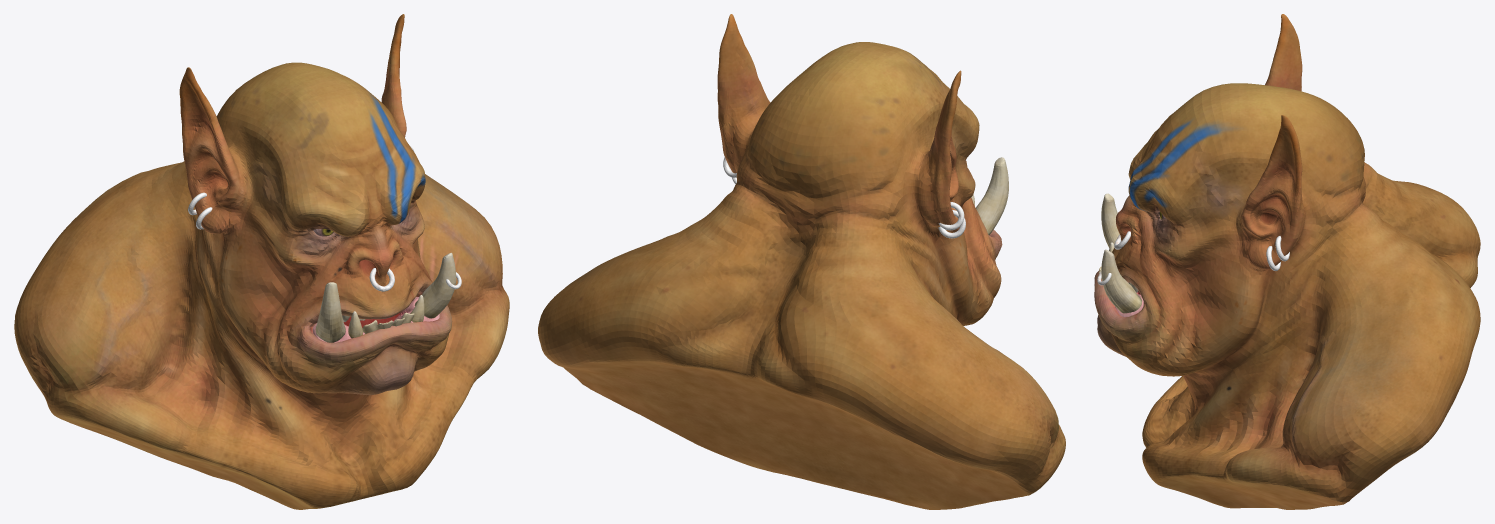
File: orc.OBJ
The picture shows the model from 3 angles, left to right: view 1: azimuth 30°, elevation 25°; view 2: azimuth 150°, elevation 25°; view 3: azimuth 270°, elevation 25°; orthographic projection. The views are drawn at different scales.
Parts seen in each view (by area): view 1: Group3, Group18, Group17; view 2: Group3, Group17; view 3: Group3, Group18, Group17.
Part boxes in pixels (x1=…): Group3: x1=14, y1=14, x2=509, y2=509; Group18: x1=414, y1=252, x2=456, y2=318; Group17: x1=315, y1=282, x2=345, y2=342; Group3: x1=538, y1=14, x2=1065, y2=509; Group17: x1=976, y1=157, x2=1008, y2=235; Group3: x1=1094, y1=14, x2=1480, y2=509; Group18: x1=1101, y1=249, x2=1141, y2=313; Group17: x1=1101, y1=193, x2=1119, y2=247.
Size of the model in its own units: 4.1 by 3.72 by 3.05.
Materials: 1 (1 with a texture image).
